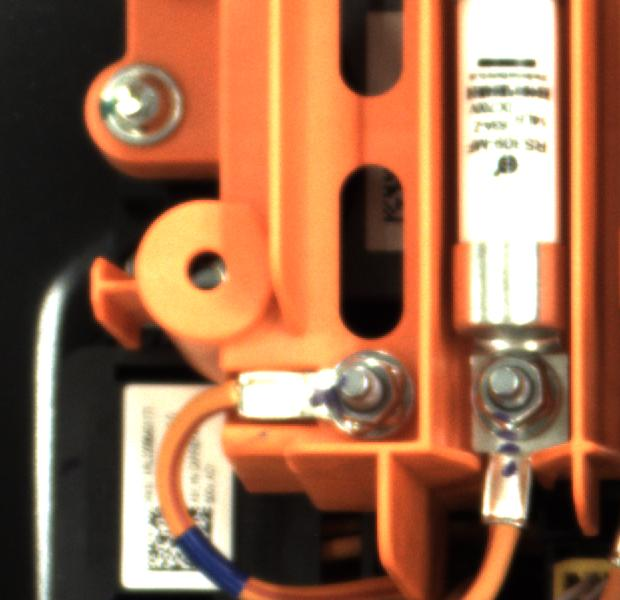screw_m: (81, 51, 193, 156)
screw_s: (320, 344, 431, 444), (462, 346, 564, 447)
